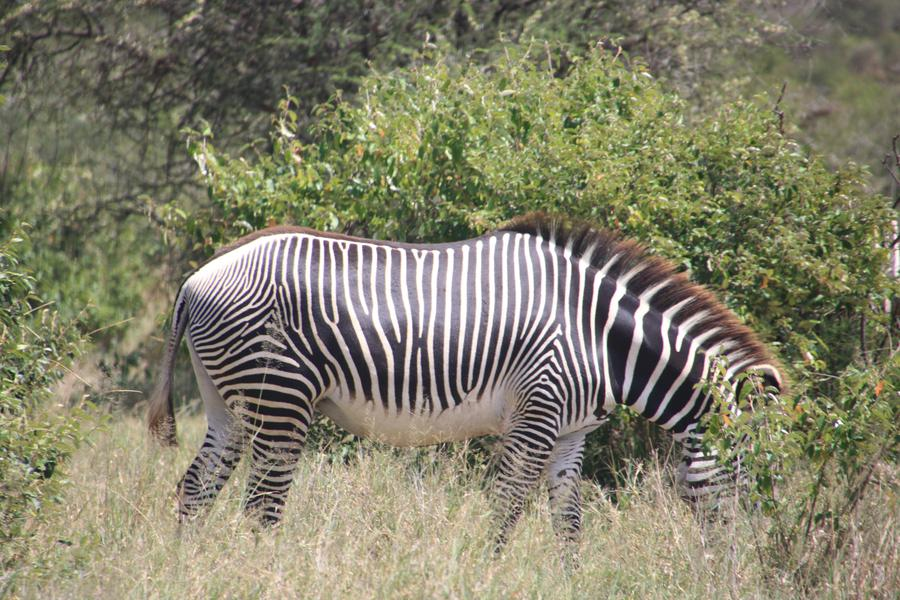zebra_grevys: (173, 219, 587, 431)
